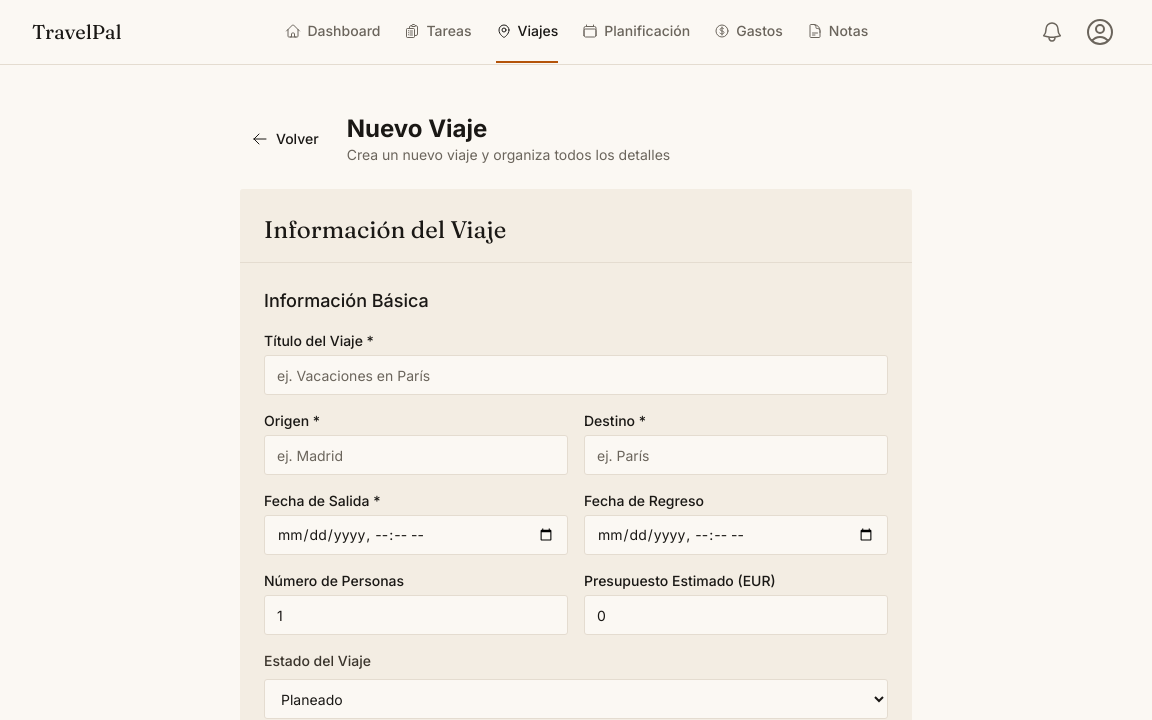
Scenario: NewTripPage › displays proper error message from the API
The width and height of the screenshot is (1152, 720).
Type "Test Trip" into the field labelled "Título del Viaje *" at (576, 375), box left=264, top=355, right=888, bottom=395
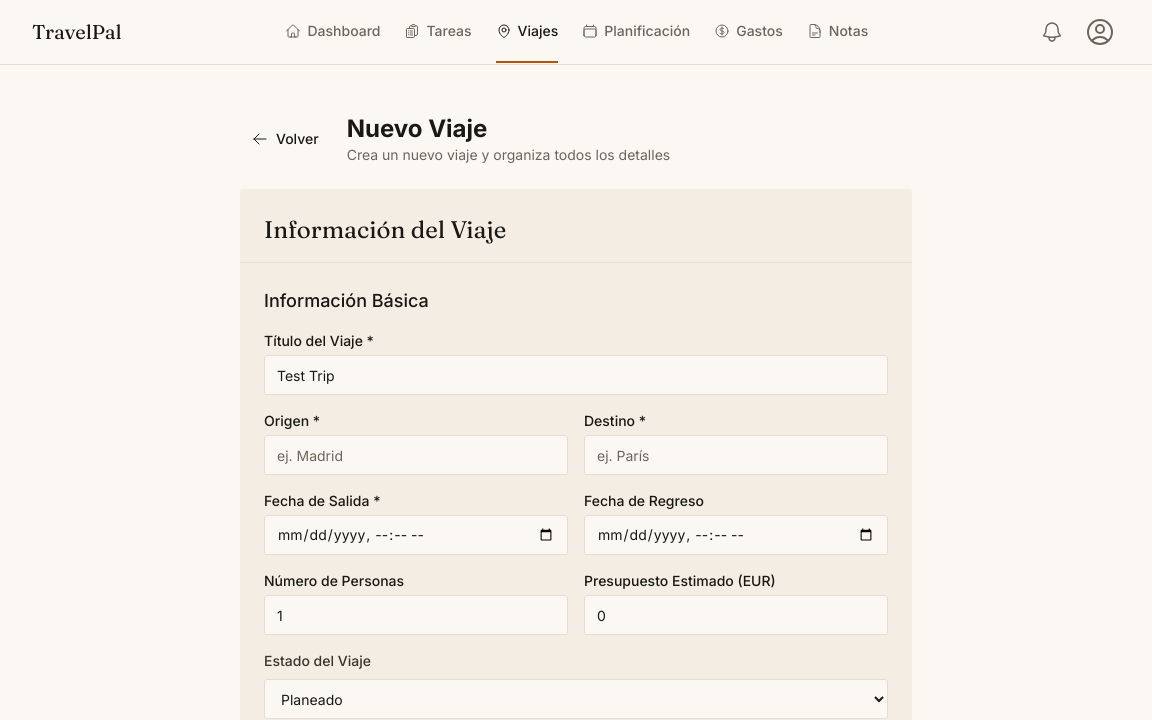
Type "Madrid" into the field labelled "Origen *" at (416, 455), box left=264, top=435, right=568, bottom=475
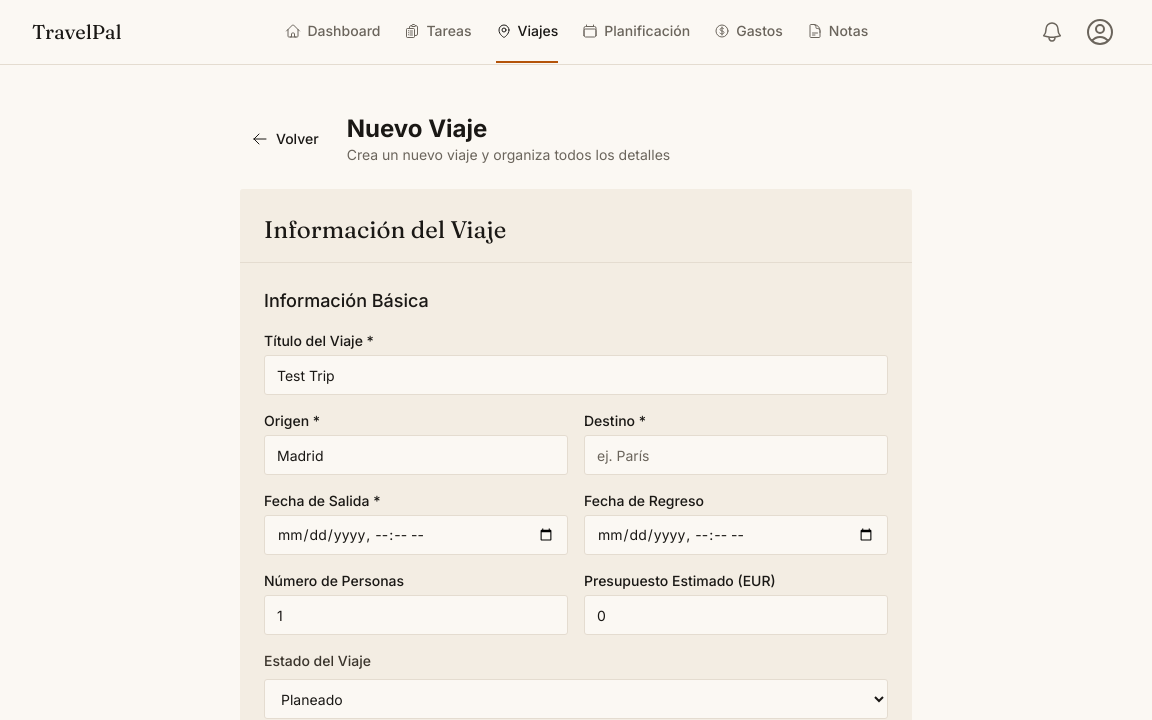
Type "Paris" into the field labelled "Destino *" at (736, 455), box left=584, top=435, right=888, bottom=475
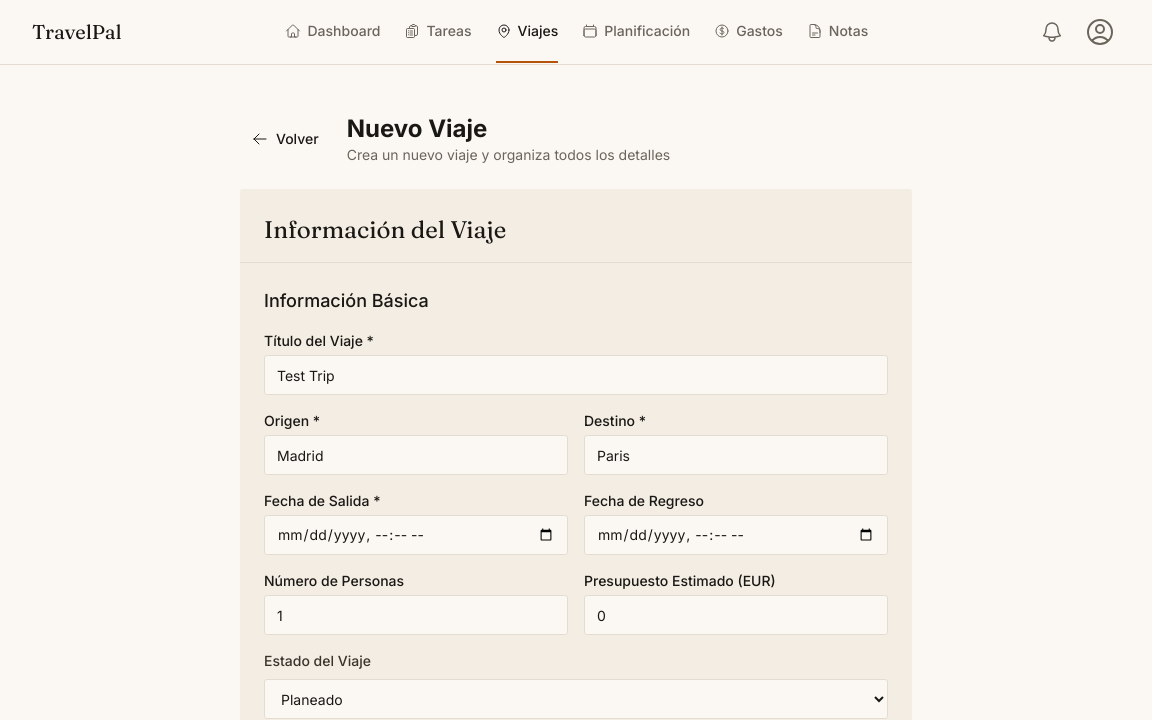
Type "2025-01-01T10:00" into the field labelled "Fecha de Salida *" at (416, 535), box left=264, top=515, right=568, bottom=555
(page scrolled)
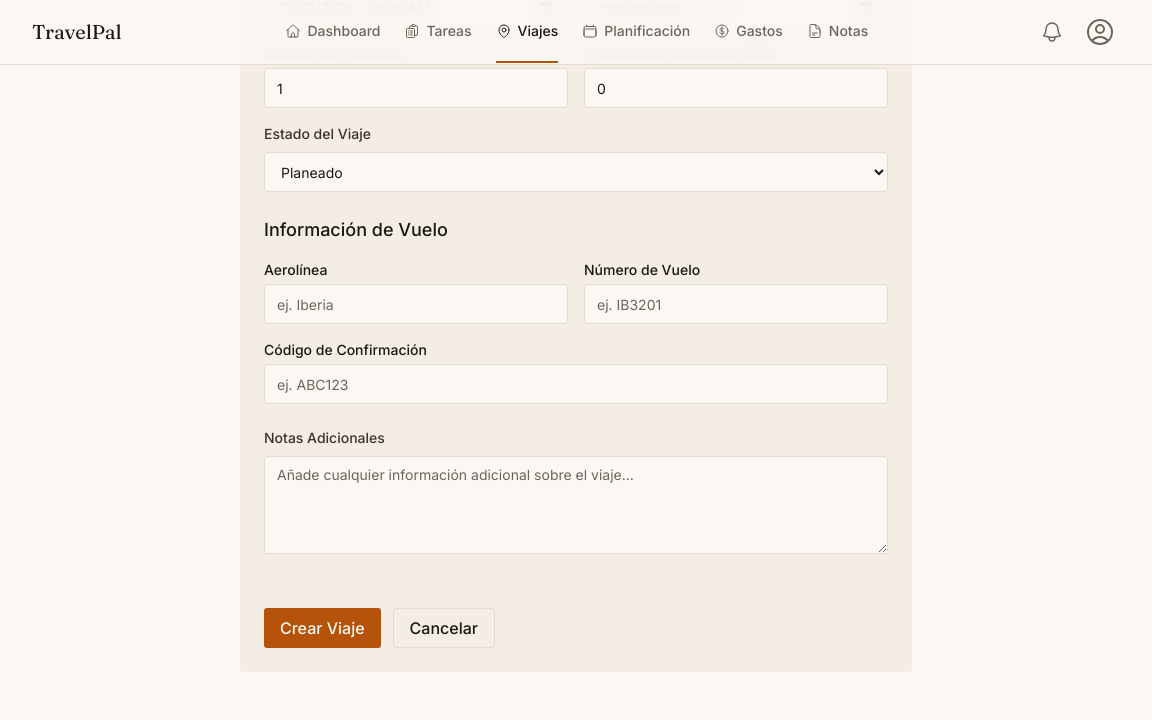
Click the button "Crear Viaje" at (322, 628), box left=264, top=608, right=381, bottom=648
(page scrolled)
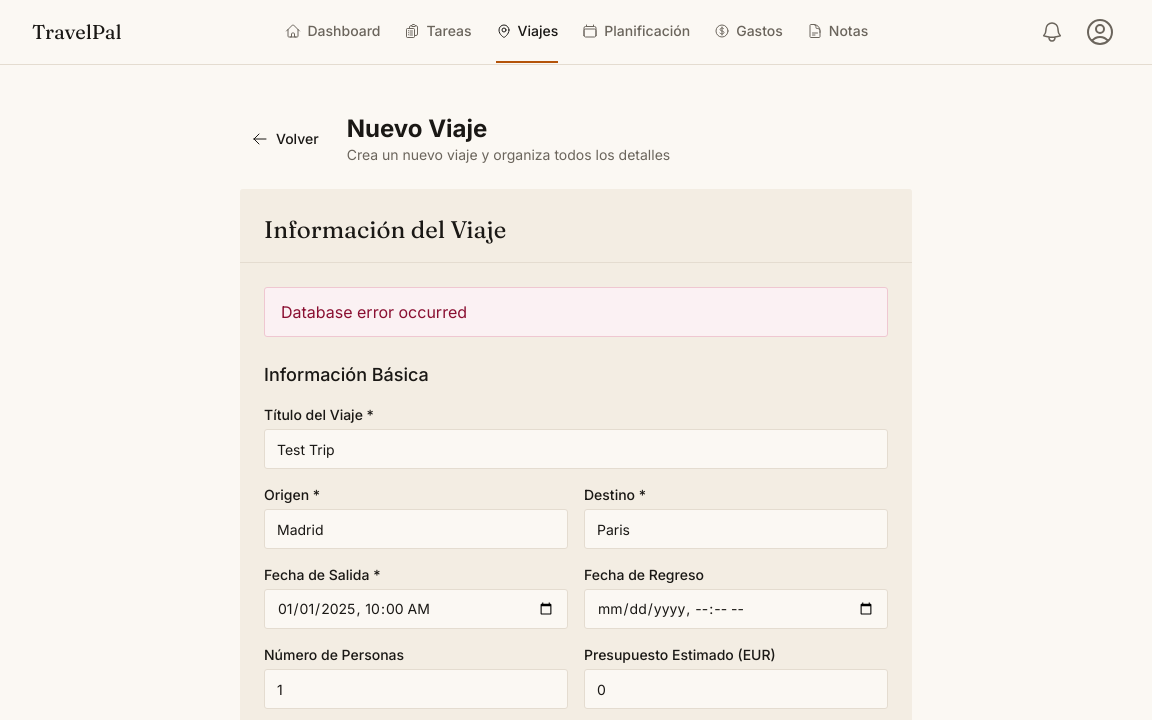
Check: the text "Database error occurred" is shown, box left=264, top=287, right=888, bottom=337
